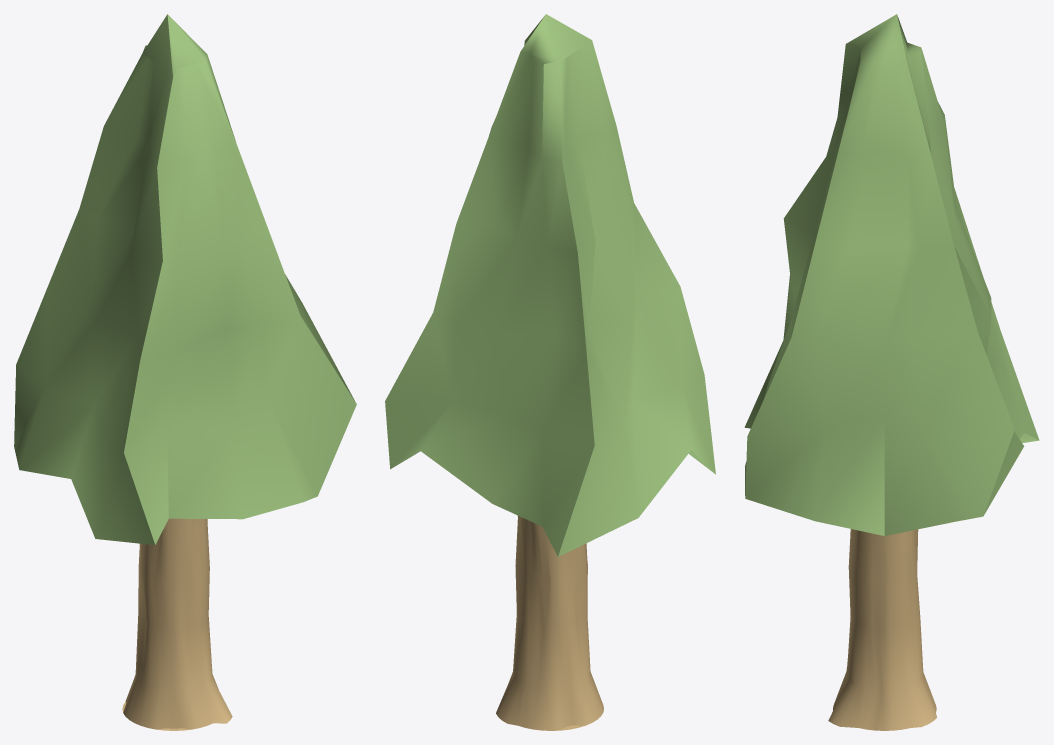
The model's file is Tree_02.fbx.
3 renders of one model, left to right at view 1: azimuth 30°, elevation 25°; view 2: azimuth 150°, elevation 25°; view 3: azimuth 270°, elevation 25°, orthographic.
Visible parts, largest first — view 1: Pyramide_1; view 2: Pyramide_1; view 3: Pyramide_1.
Part boxes in pixels (box(x1,y1,x2,y2)): Pyramide_1: box(14, 14, 356, 730); Pyramide_1: box(385, 14, 715, 730); Pyramide_1: box(744, 14, 1039, 730).
Bounding box in the file's own units: 134 × 366 × 141.
